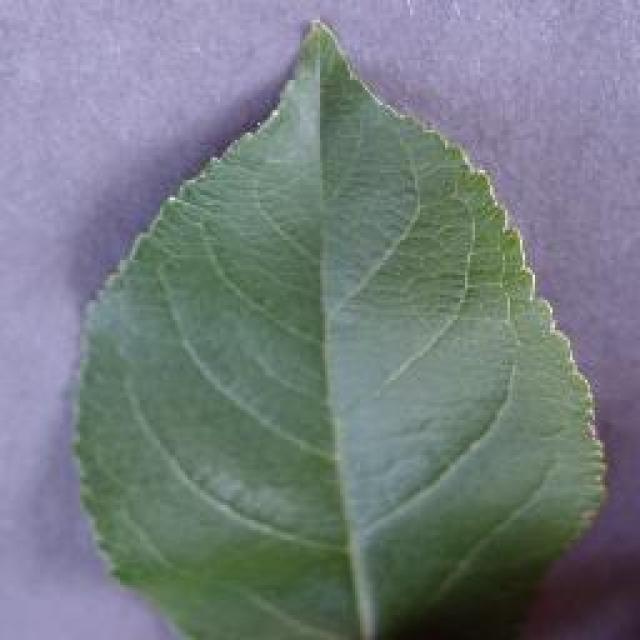apple healthy: (68, 15, 610, 637)
